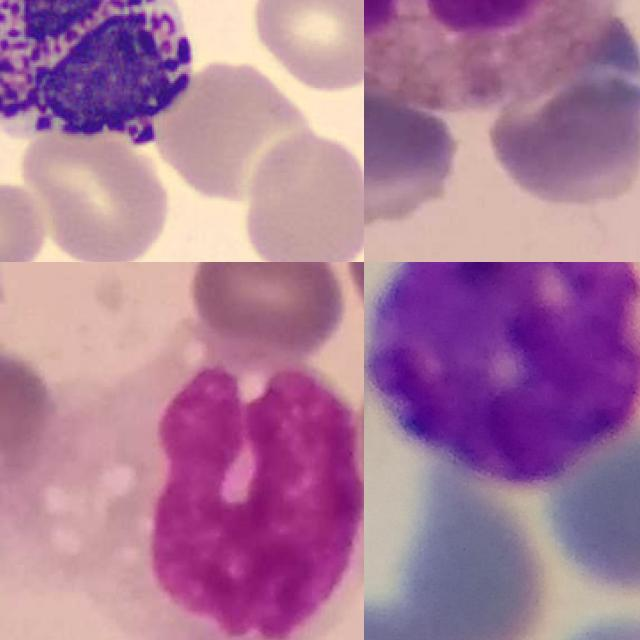Basophil: (367, 262, 640, 489), (0, 0, 209, 160)
Eosinophil: (364, 0, 623, 114)
Monocyte: (70, 352, 364, 640)
RBC: (10, 114, 180, 262), (239, 127, 364, 262), (246, 0, 364, 95), (0, 176, 49, 262)
